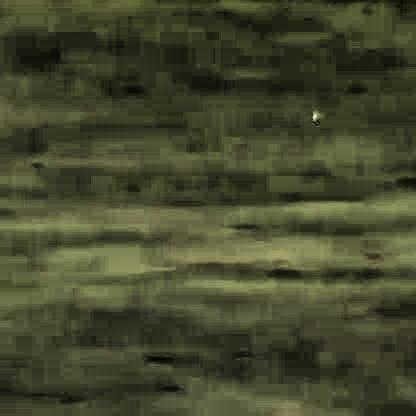golfball: (308, 107, 319, 118)
